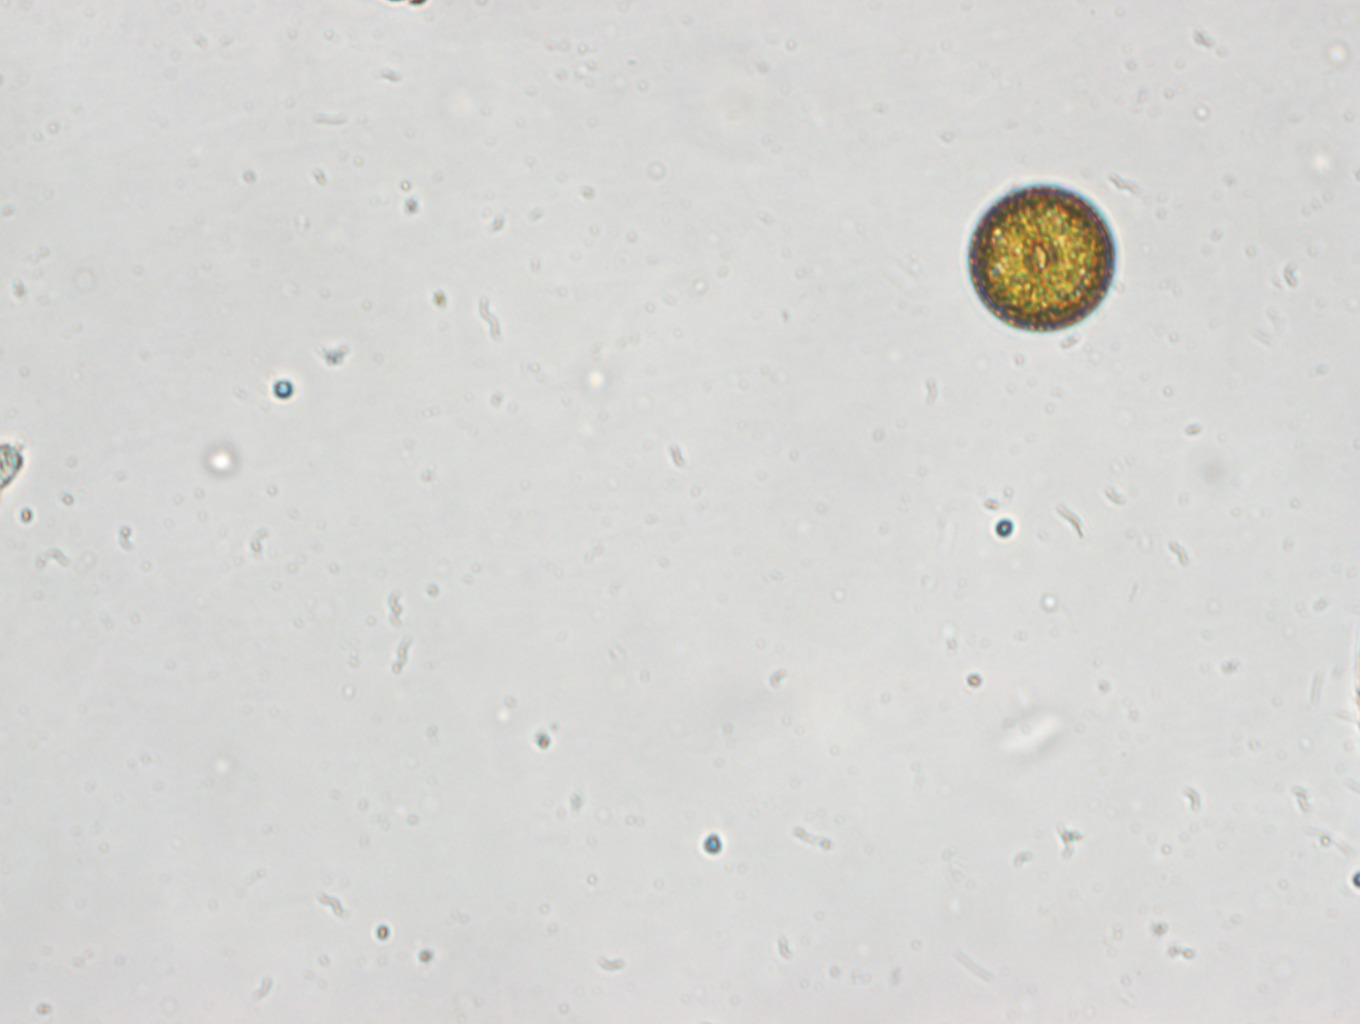coscinodiscus: (958, 177, 1127, 337)
